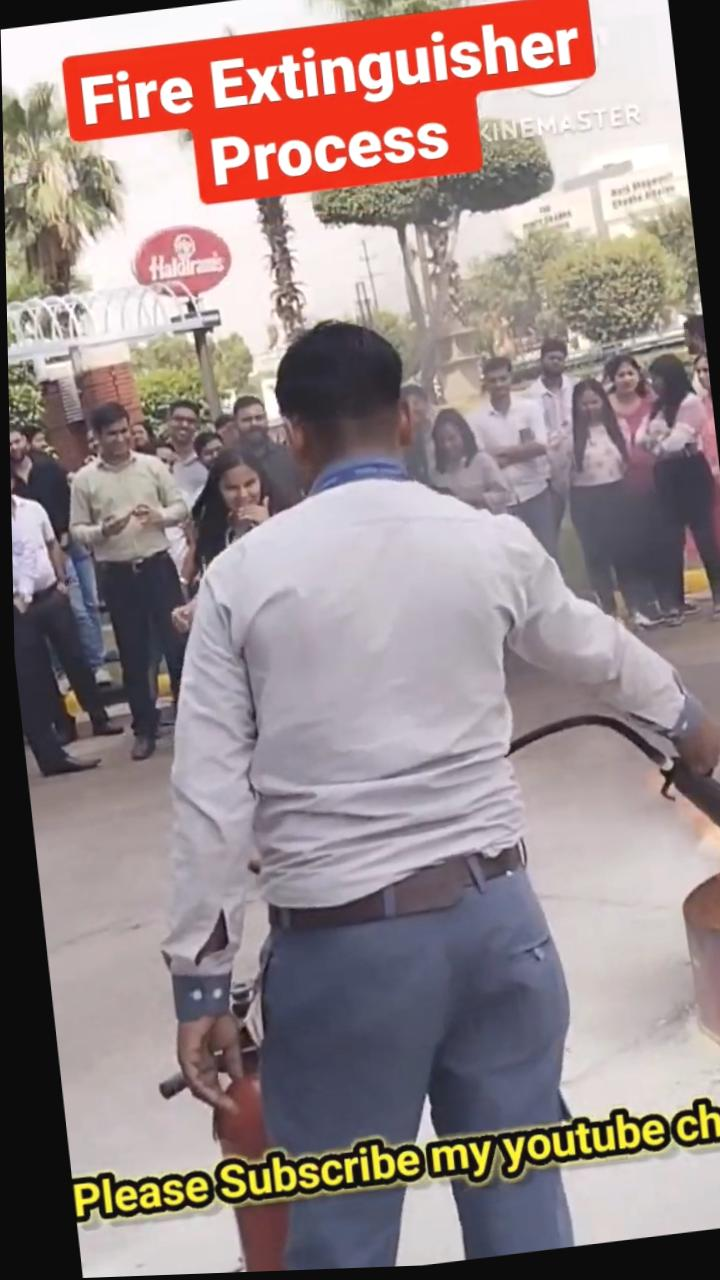FireExtinguisher: (134, 1045, 302, 1277)
not: (640, 852, 720, 1080), (26, 347, 158, 482), (590, 357, 658, 502), (662, 407, 720, 551)
